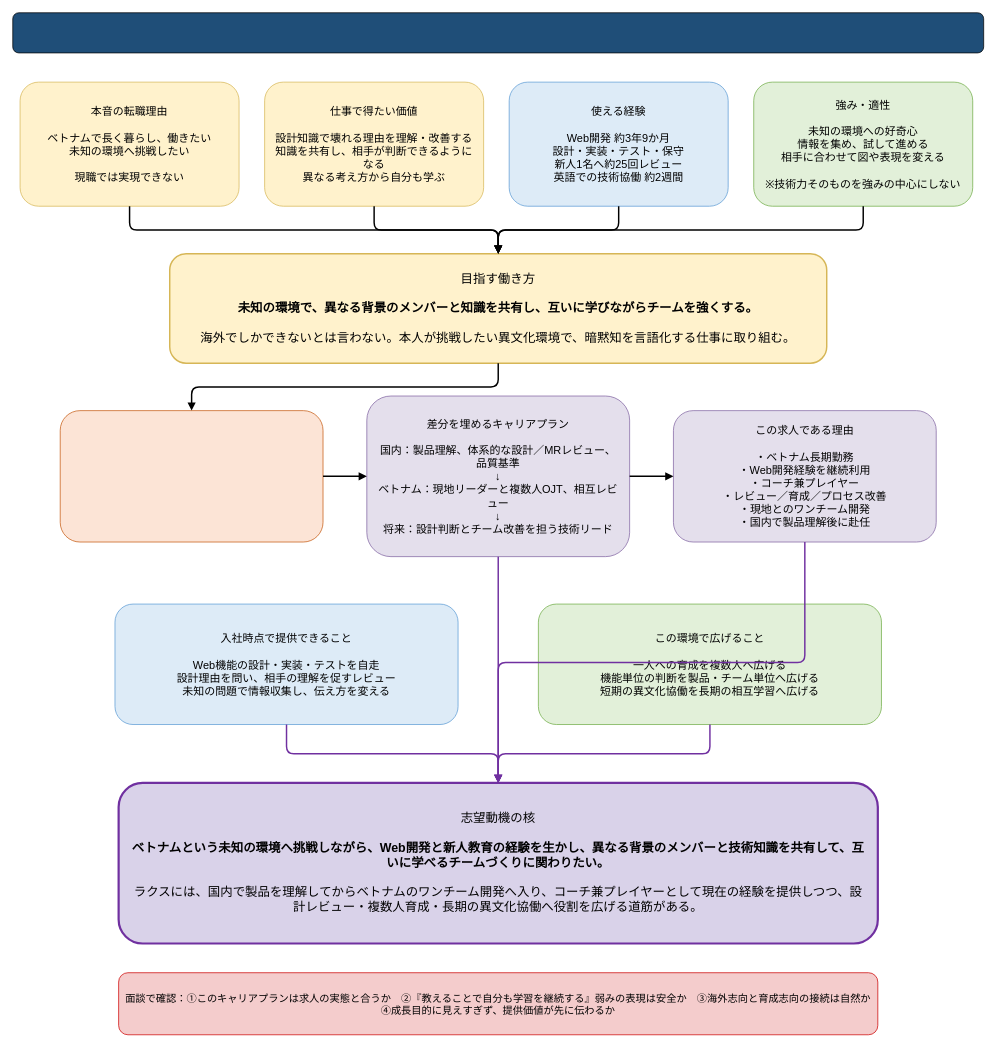
The diagram is 996 pixels wide and 1048 high, and some of its shapes have lost their labels. The shapes that lost their labels are listed below. From the top down, each one's centre as x and y in pixels, then its label:
At [498,32]: "志望動機の収束図：本音・経験・差分・求人を一本につなぐ".
At [191,476]: "現在との差分 ・システム全体を踏まえた設計レビュー ・複数人への継続OJT ・チーム改善の測定と定着 ・長期の異文化協働".
